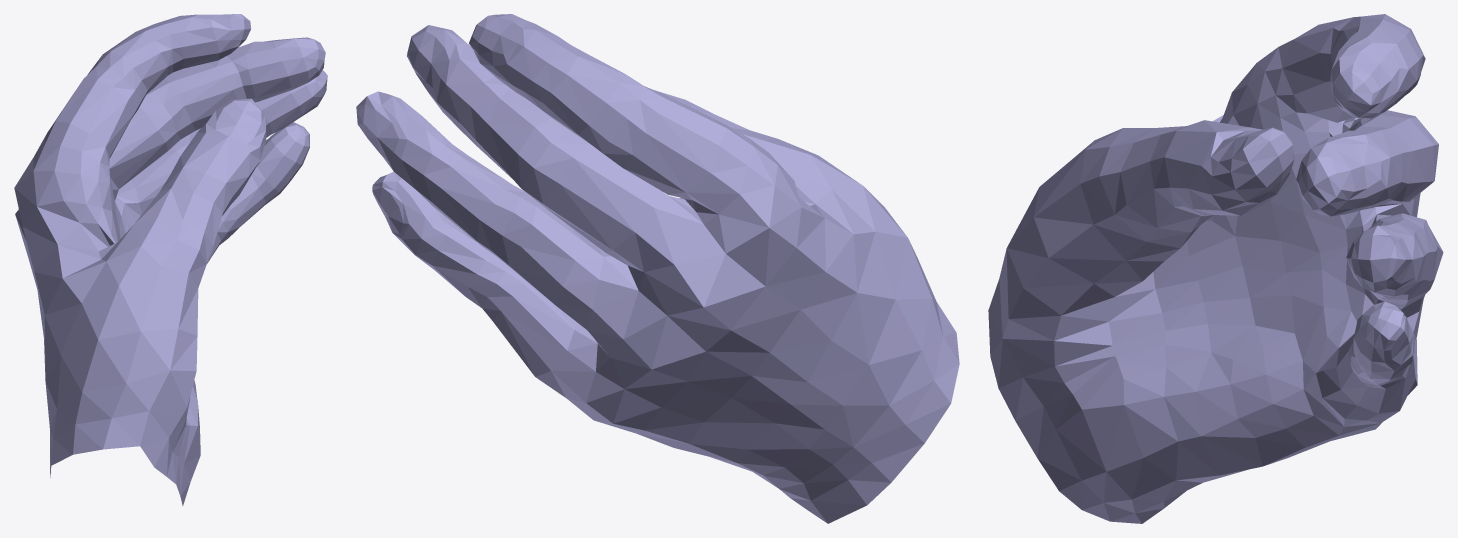
Rendered from frame_0009_source_000009_hand.glb.
3 views of the same model, side by side, from view 1: azimuth 30°, elevation 25°; view 2: azimuth 150°, elevation 25°; view 3: azimuth 270°, elevation 25° (orthographic). The views are drawn at different scales.
Parts seen in each view (by area): view 1: world; view 2: world; view 3: world.
Part boxes in pixels (x1,y1,x2,y2): world: [14, 14, 327, 506]; world: [356, 14, 959, 523]; world: [988, 14, 1443, 523].
Bounding box in the file's own units: 0.1293 × 0.1356 × 0.0959.
